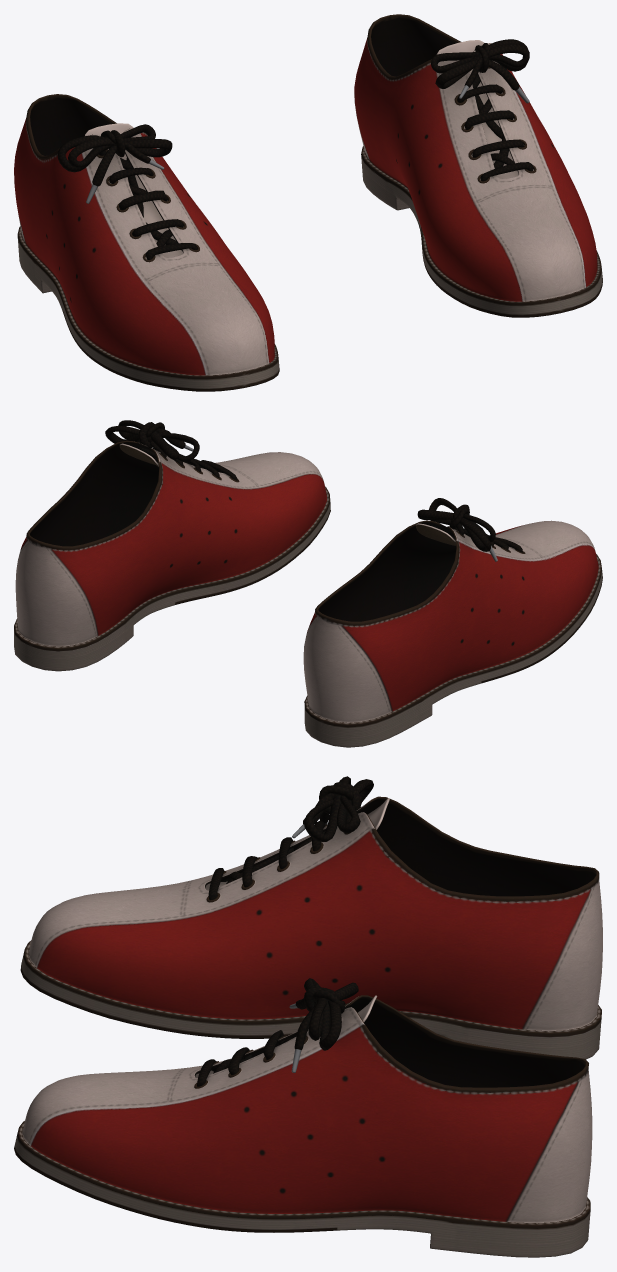
The model's file is shoe.obj.
3 views of the same model, one above another, from view 1: azimuth 30°, elevation 25°; view 2: azimuth 150°, elevation 25°; view 3: azimuth 270°, elevation 25° (orthographic). The views are drawn at different scales.
Parts seen in each view (by area): view 1: 11741_shoes_v1_l2.002; view 2: 11741_shoes_v1_l2.002; view 3: 11741_shoes_v1_l2.002.
Boxes of the visible parts, x1,y1,x2,y2 form: 11741_shoes_v1_l2.002: (14,14,602,391); 11741_shoes_v1_l2.002: (14,420,602,747); 11741_shoes_v1_l2.002: (14,776,602,1257).
Bounding box in the file's own units: 34.93 × 13.92 × 30.92.
